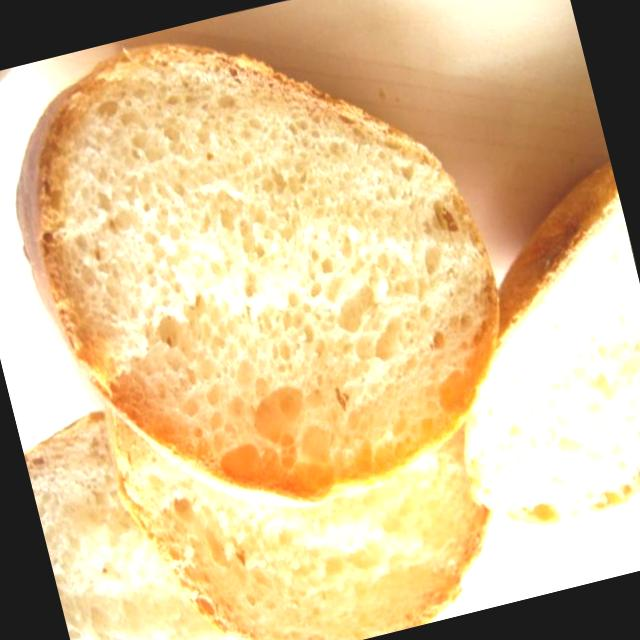Bread: (0, 0, 537, 556)
